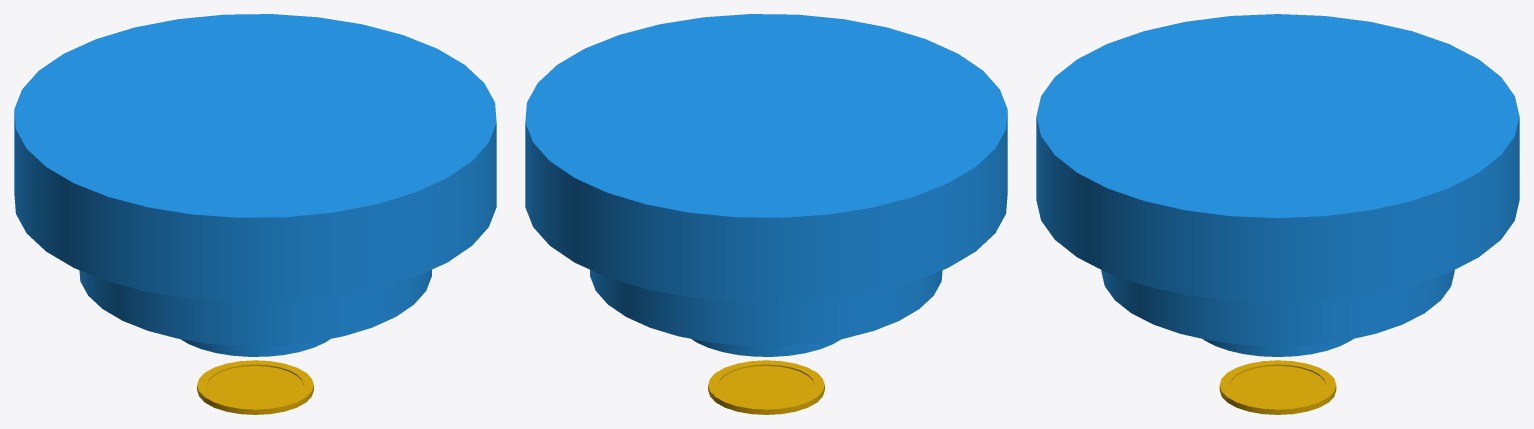
File: Coin_Spawner.fbx
3 renders of one model, left to right at view 1: azimuth 30°, elevation 25°; view 2: azimuth 150°, elevation 25°; view 3: azimuth 270°, elevation 25°, orthographic.
Visible parts, largest first — view 1: Cylinder, Cylinder.010; view 2: Cylinder, Cylinder.010; view 3: Cylinder, Cylinder.010.
Part boxes in pixels (x1=…): Cylinder: x1=14, y1=14, x2=496, y2=356; Cylinder.010: x1=197, y1=360, x2=313, y2=414; Cylinder: x1=525, y1=14, x2=1007, y2=356; Cylinder.010: x1=708, y1=360, x2=824, y2=414; Cylinder: x1=1036, y1=14, x2=1519, y2=356; Cylinder.010: x1=1219, y1=360, x2=1336, y2=414.
Size of the model in its own units: 160 by 99.98 by 160.
